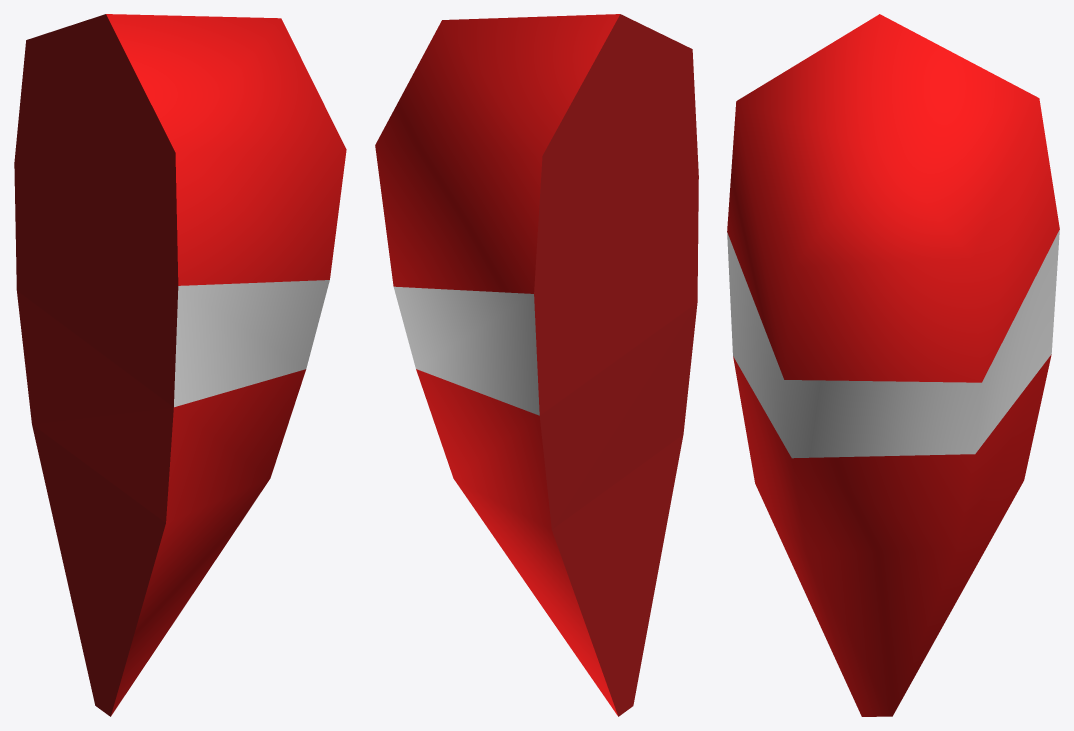
File: LimbShoeLeft.obj
3 views of the same model, side by side, from view 1: azimuth 30°, elevation 25°; view 2: azimuth 150°, elevation 25°; view 3: azimuth 270°, elevation 25° (orthographic).
Bounding box in the file's own units: 1.3 × 4.25 × 1.82.
3 materials, 3 textured.
